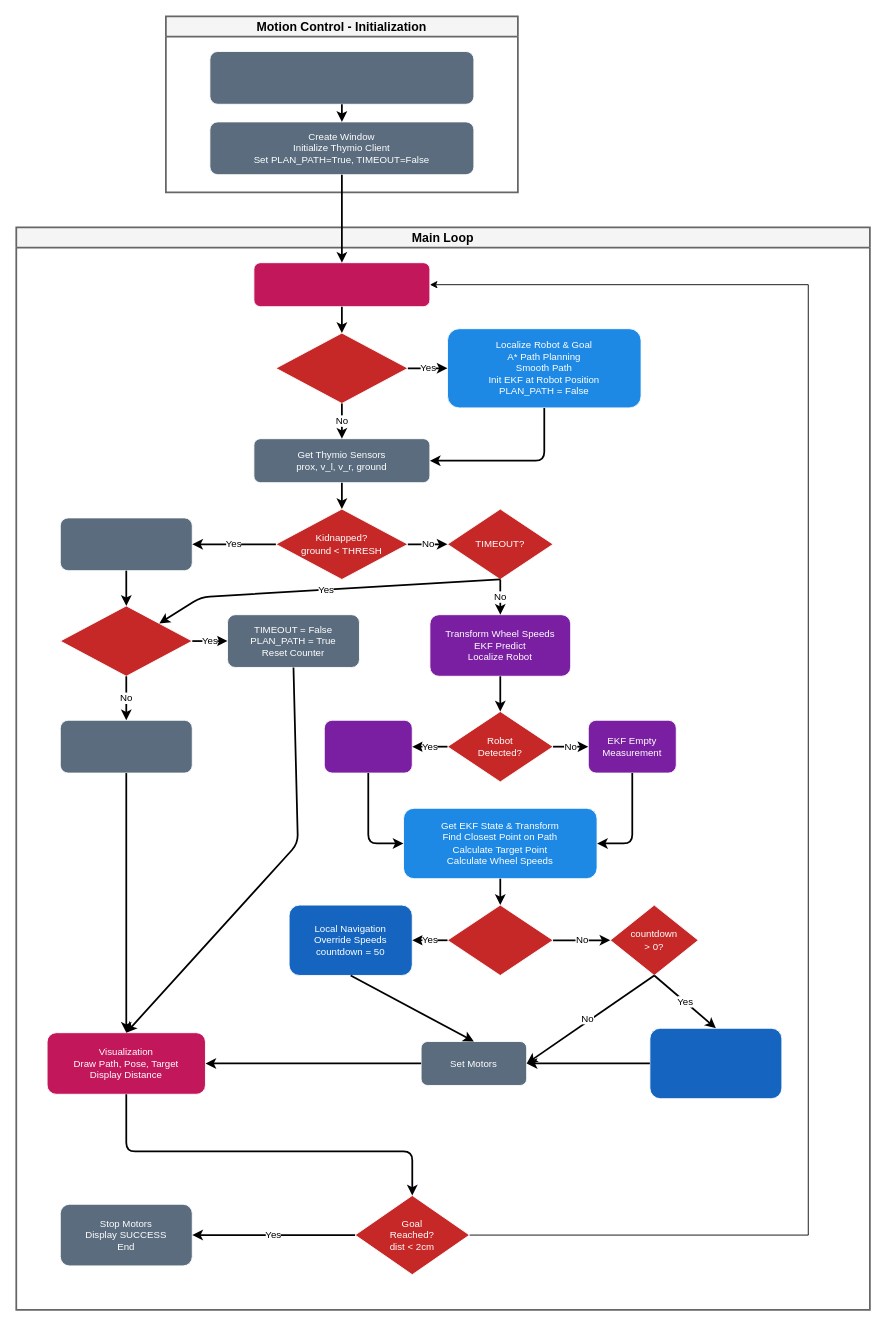
Some shapes in this 885 by 1325 pixel diagram are drawn without their labels. The centre of each missing label's shape, as x and y in pixels:
"Decrement countdown Phased Movement If countdown==1: PLAN_PATH=True" goes at point 715,1063.
"EKF Update with Vision" goes at point 367,746.
"Get Camera Frame" goes at point 341,284.
"Increment Counter Display KIDNAPED" goes at point 125,746.
"Obstacle? prox > 2000" goes at point 500,939.
"PLAN_PATH?" goes at point 341,367.
"Start Camera & Thymio Get Frame & Occupancy Grid Set Map & Transforms" goes at point 341,77.
"Stop Motors TIMEOUT = True" goes at point 125,544.
"timeout_count > 30?" goes at point 125,640.
